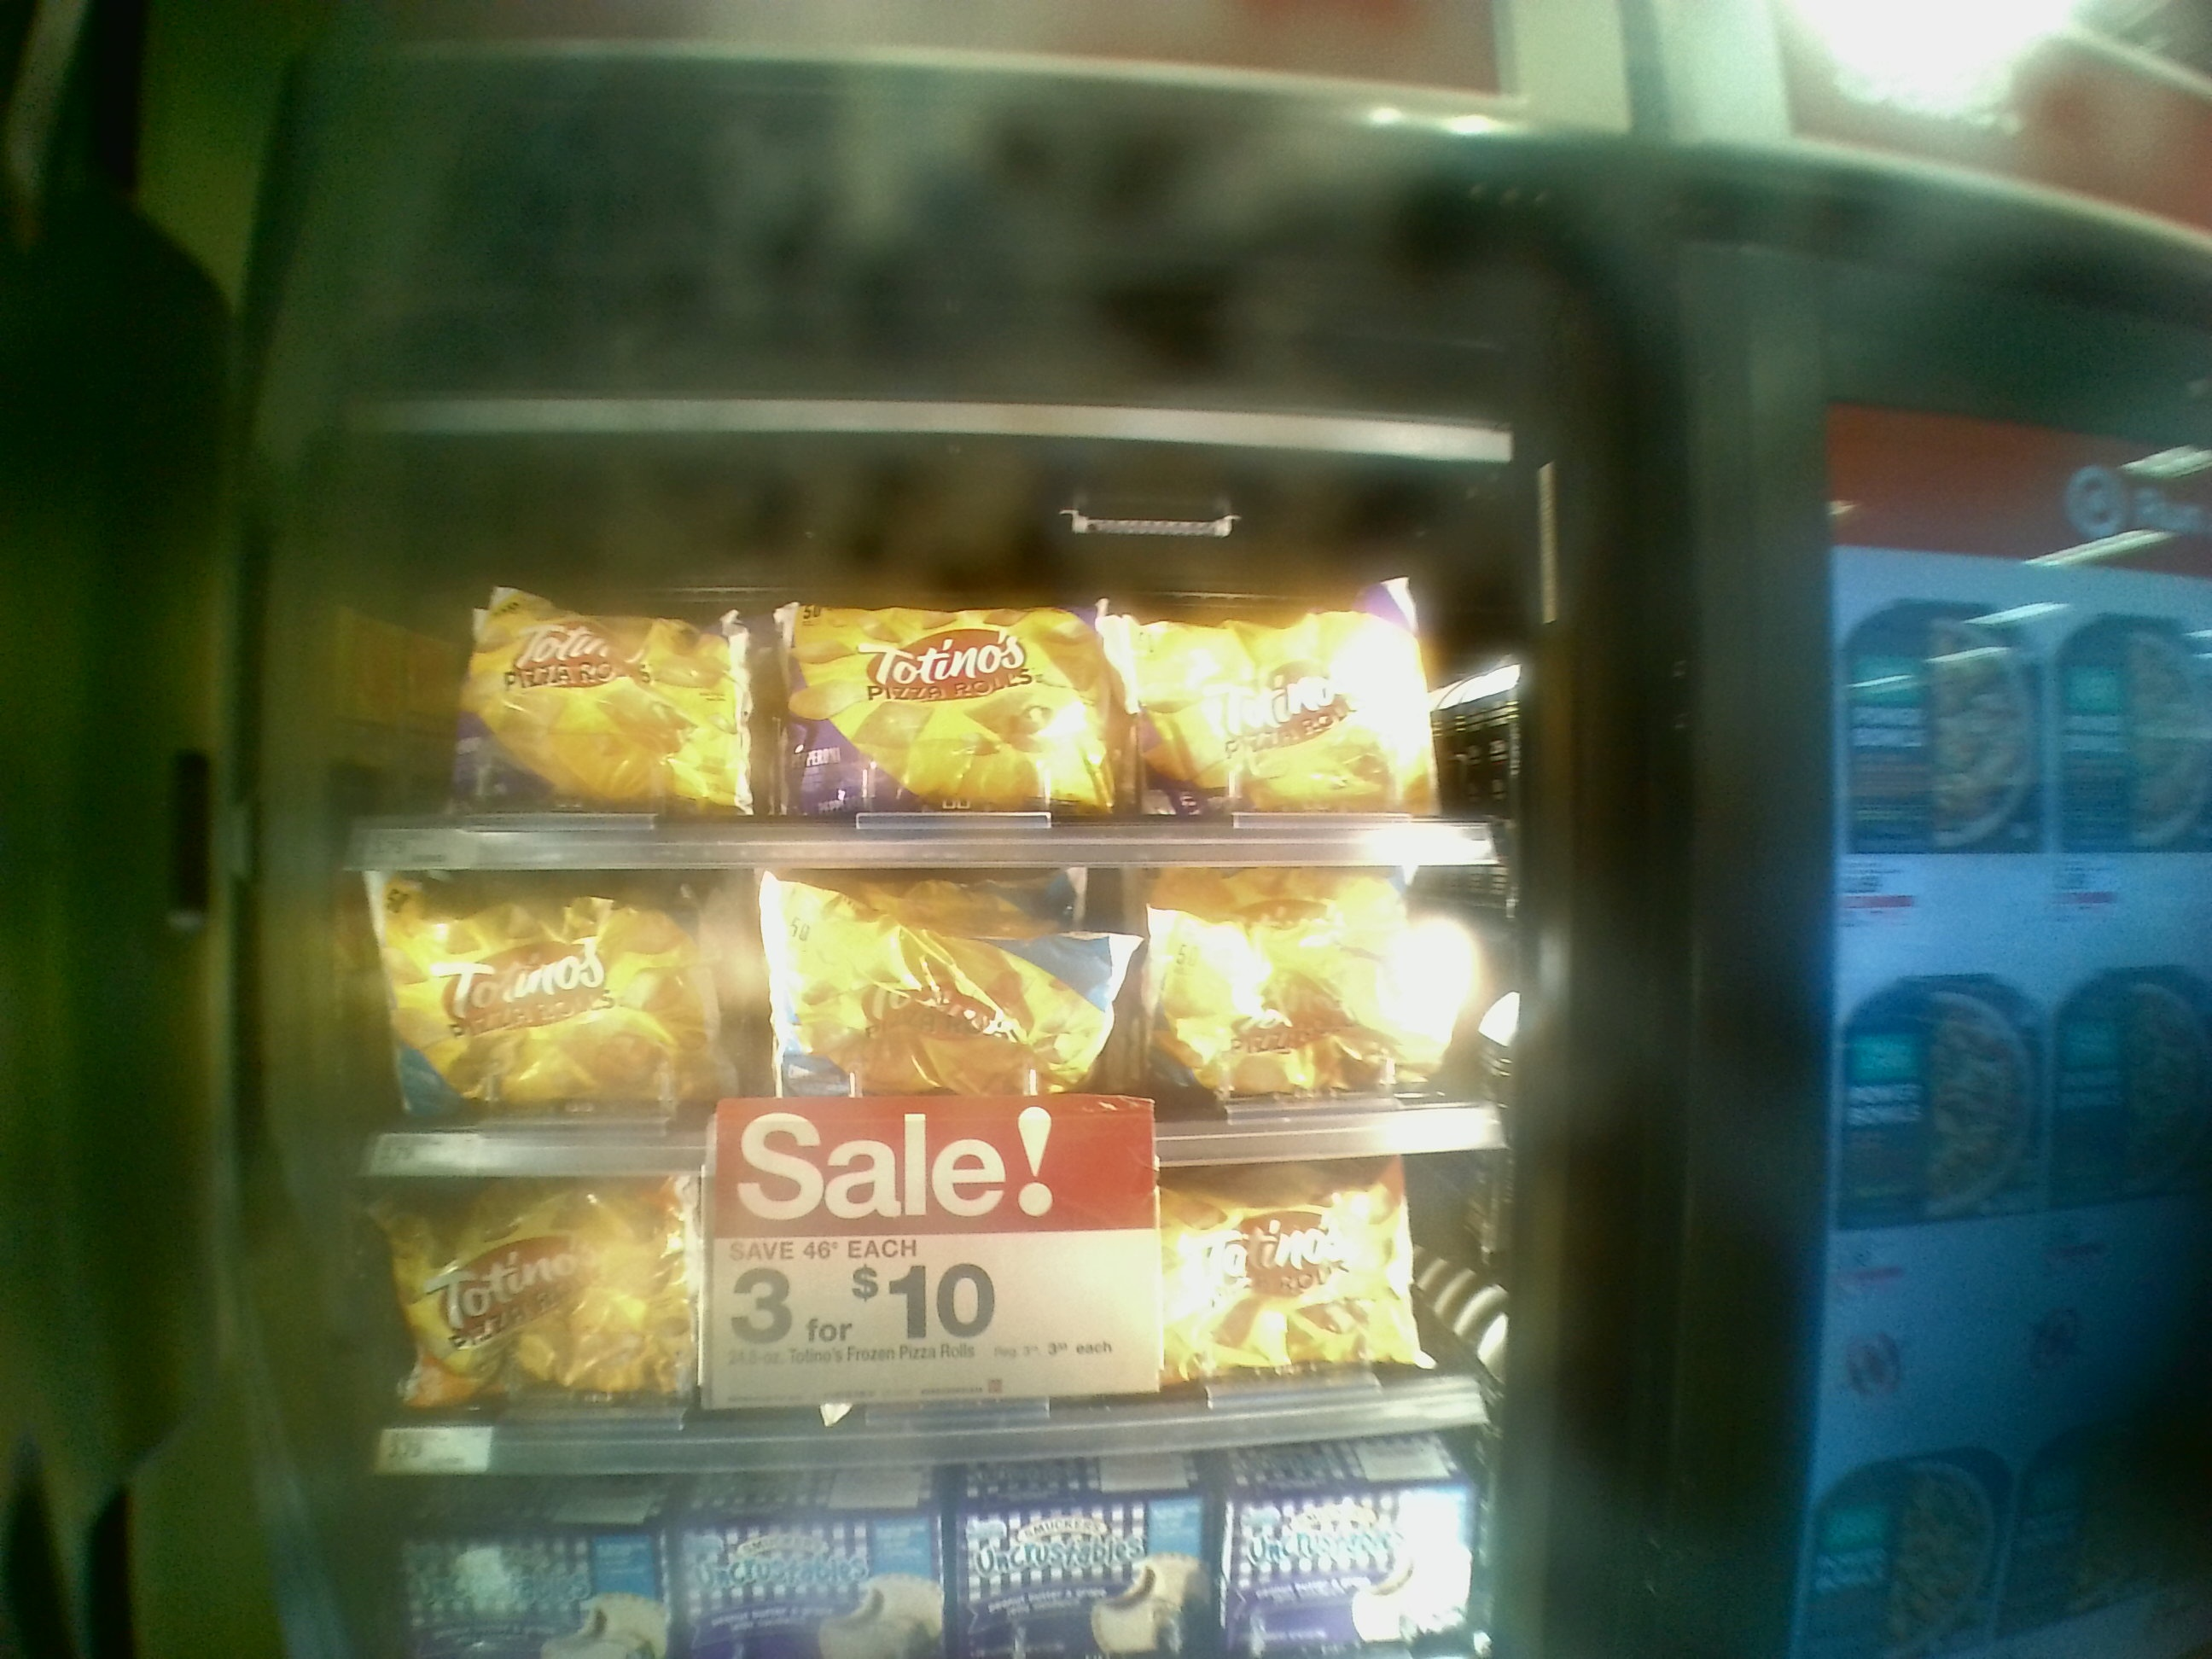shelf: (329, 857, 1512, 1162), (324, 1169, 1503, 1439)
